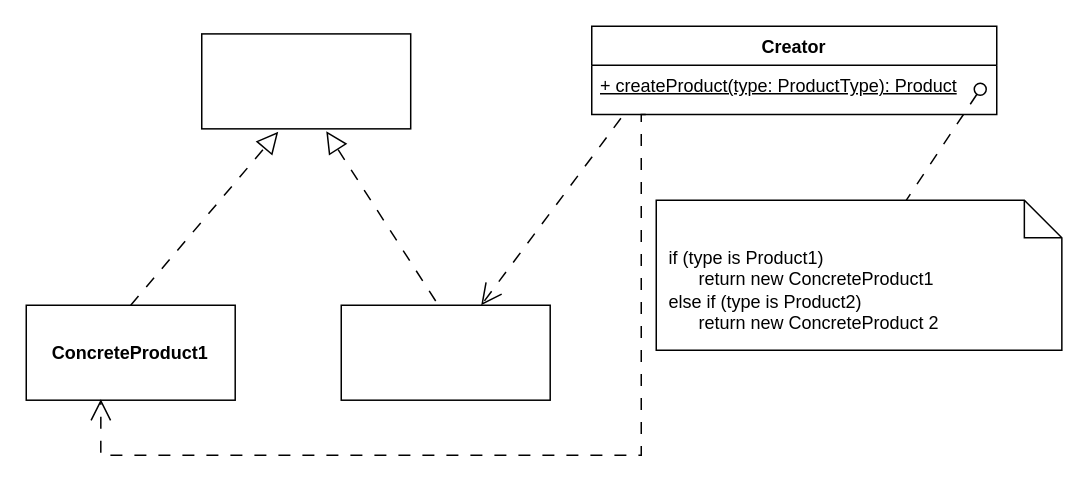
This 1089x503 diagram has some shape labels left out. The centre of each missing label's shape, as x and y in pixels:
<<interface>> Product: point (305, 80)
ConcreteProduct2: point (445, 352)
